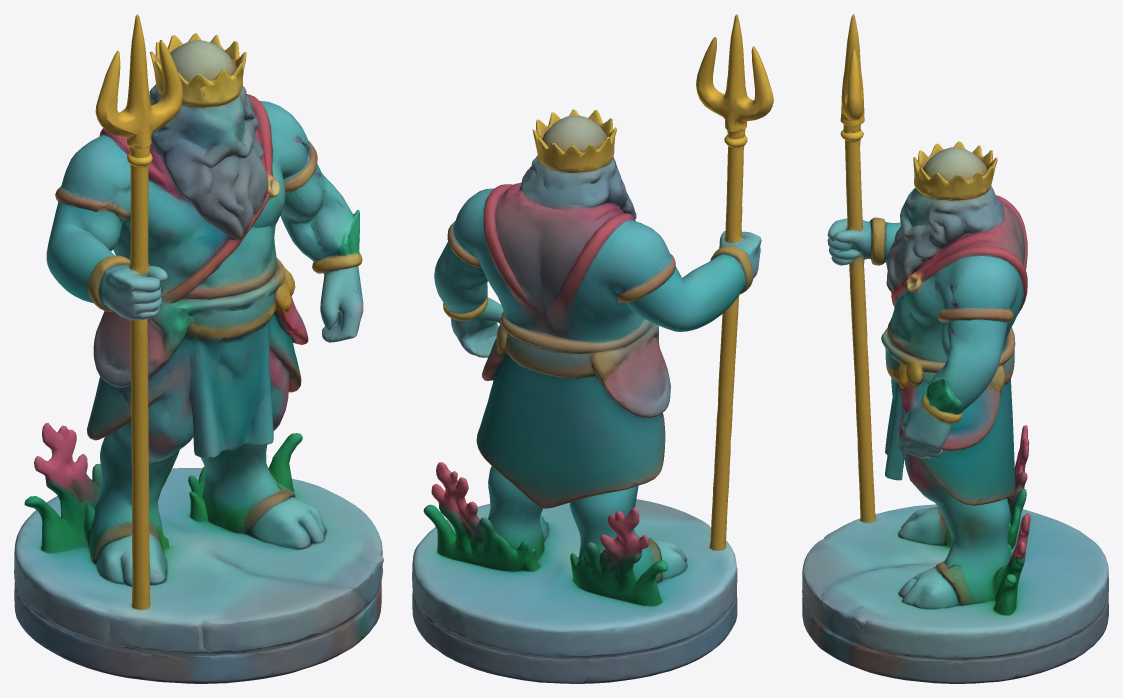
The model's file is sea_king_statue.glb.
3 views of the same model, side by side, from view 1: azimuth 30°, elevation 25°; view 2: azimuth 150°, elevation 25°; view 3: azimuth 270°, elevation 25° (orthographic). The views are drawn at different scales.
Visible parts, largest first — view 1: Mesh; view 2: Mesh; view 3: Mesh.
Part boxes in pixels (<box>): Mesh: <box>14,14,383,683</box>; Mesh: <box>412,14,773,683</box>; Mesh: <box>802,14,1108,683</box>.
Bounding box in the file's own units: 0.9825 × 1.95 × 0.9701.
1 material, 1 textured.
